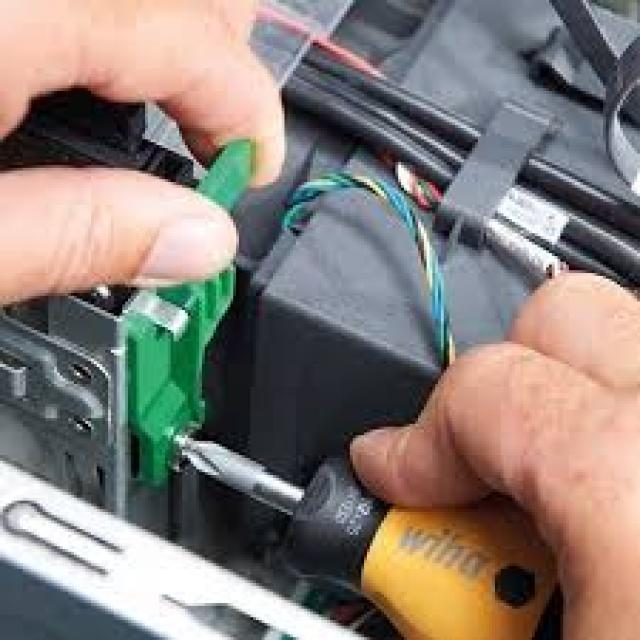screwdriver: (151, 415, 564, 640)
